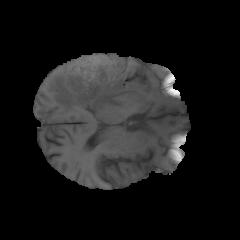glioma: (53, 53, 140, 111)
